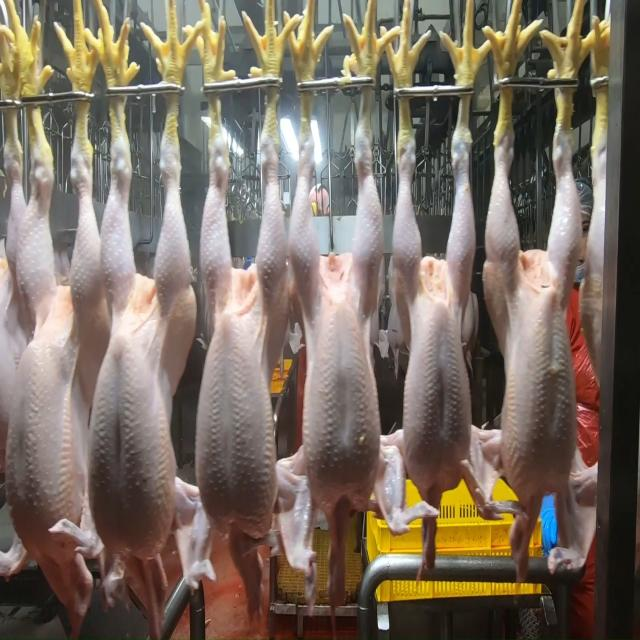chicken: (286, 106, 387, 561), (199, 119, 289, 571), (2, 162, 101, 561), (98, 132, 191, 548), (492, 115, 583, 498), (389, 128, 479, 494)
